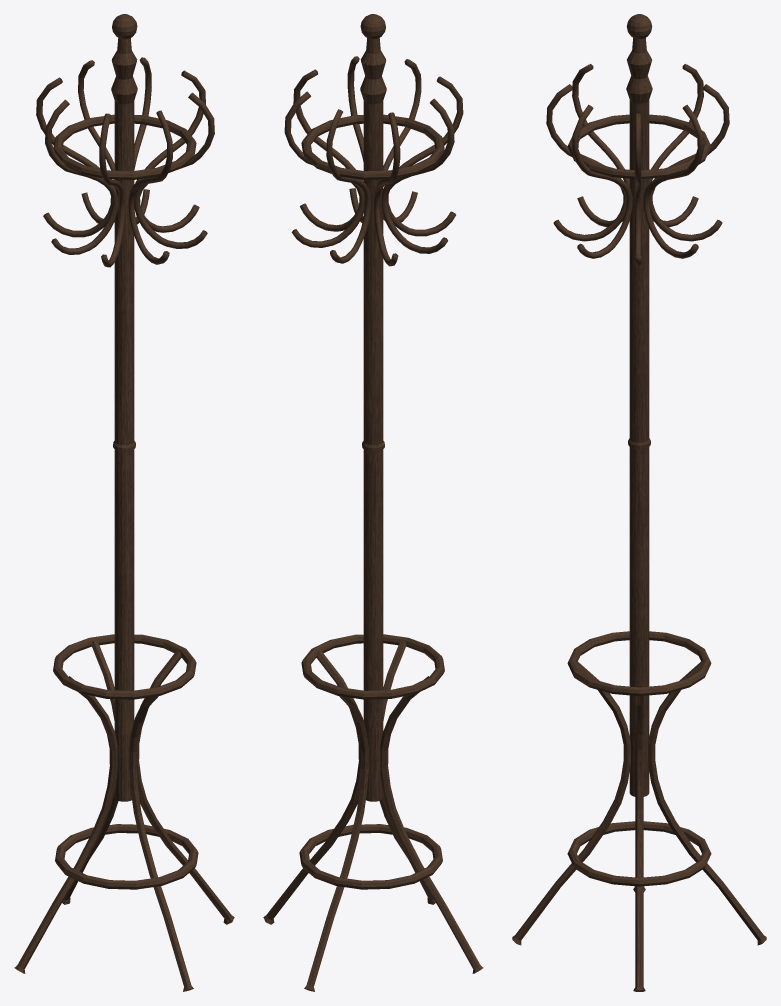
File: obj_hanger_938751.glb
3 views of the same model, side by side, from view 1: azimuth 30°, elevation 25°; view 2: azimuth 150°, elevation 25°; view 3: azimuth 270°, elevation 25° (orthographic).
Parts seen in each view (by area): view 1: obj_hanger_938751; view 2: obj_hanger_938751; view 3: obj_hanger_938751.
Boxes of the visible parts, x1,y1,x2,y2 form: obj_hanger_938751: (14, 14, 234, 991); obj_hanger_938751: (263, 14, 483, 991); obj_hanger_938751: (512, 14, 766, 991).
Bounding box in the file's own units: 0.4384 × 1.8 × 0.4476.
1 material, 1 textured.
